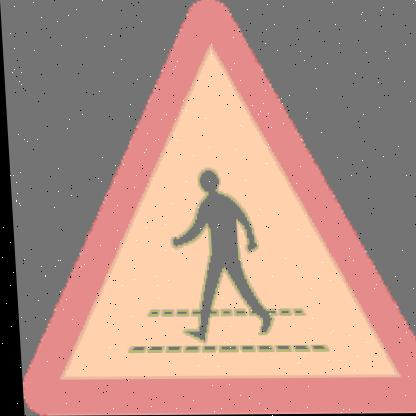Pedestrian Crossing: (29, 26, 403, 393)
